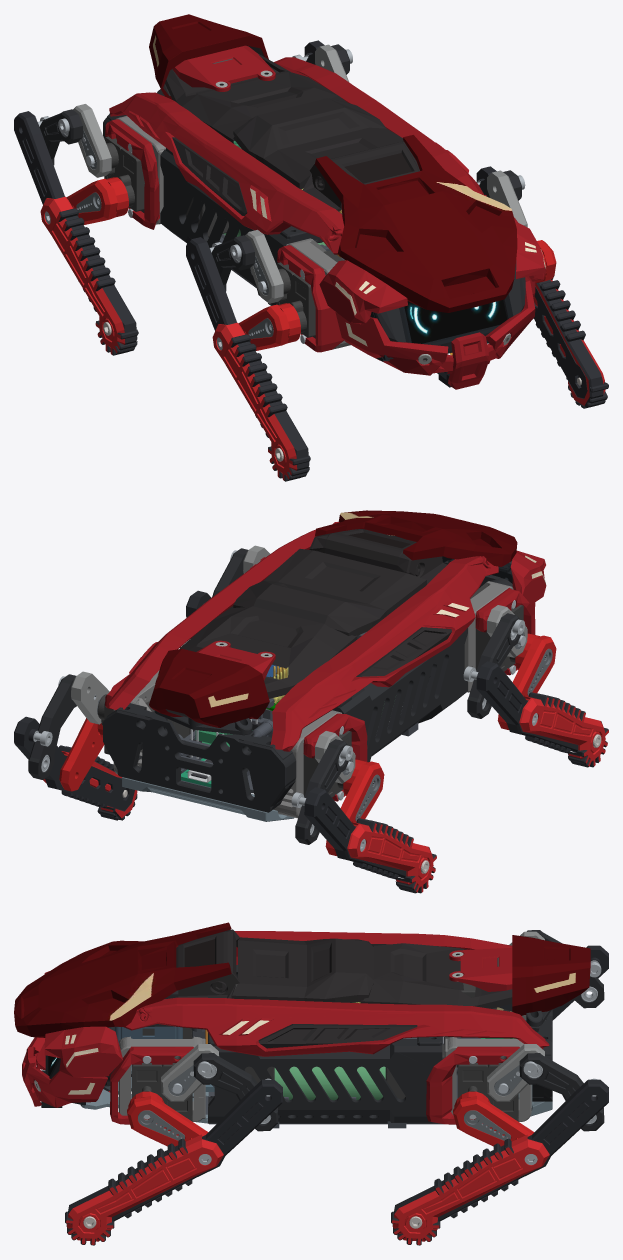
Rendered from ainekio-v2.glb.
The picture shows the model from 3 angles, top to bottom: view 1: azimuth 30°, elevation 25°; view 2: azimuth 150°, elevation 25°; view 3: azimuth 270°, elevation 25°; orthographic projection. The views are drawn at different scales.
Parts seen in each view (by area): view 1: Ext_RobotRoot, Ext_Tex_RobotRoot_01, Int_FR_Foot, Int_RR_Foot, Int_RobotRoot, Int_RL_Foot, Int_Tex_RobotRoot_00, Int_RR_Shoulder, Int_FR_Shoulder, Ext_RR_Shoulder, Ext_FR_Shoulder, Int_RR_Primary (+7 smaller); view 2: Ext_RobotRoot, Int_RobotRoot, Ext_Tex_RobotRoot_01, Int_RR_Foot, Int_FR_Foot, Int_FL_Foot, Int_FL_Rod, Int_FR_Primary, Int_RR_Primary, Int_FR_Shoulder, Int_RR_Shoulder, Int_FL_Primary (+9 smaller); view 3: Ext_RobotRoot, Ext_Tex_RobotRoot_01, Int_RobotRoot, Int_RL_Foot, Int_FL_Foot, Int_RL_Shoulder, Int_FL_Shoulder, Ext_FL_Shoulder, Int_FL_Primary, Int_RL_Primary, Int_FL_Rod, Int_RL_Rod (+5 smaller).
Boxes of the visible parts, x1,y1,x2,y2 form: Ext_RobotRoot: (109, 45, 546, 389); Ext_Tex_RobotRoot_01: (149, 14, 517, 312); Int_FR_Foot: (14, 111, 138, 355); Int_RR_Foot: (186, 237, 310, 481); Int_RobotRoot: (103, 113, 500, 387); Int_RL_Foot: (476, 166, 608, 408); Int_Tex_RobotRoot_00: (404, 300, 507, 343); Int_RR_Shoulder: (266, 238, 350, 349); Int_FR_Shoulder: (93, 116, 165, 224); Ext_RR_Shoulder: (277, 245, 344, 352); Ext_FR_Shoulder: (105, 119, 159, 229); Int_RR_Primary: (217, 303, 300, 350); Ext_RobotRoot: (109, 522, 546, 751); Int_RobotRoot: (103, 535, 512, 821); Ext_Tex_RobotRoot_01: (149, 510, 517, 727); Int_RR_Foot: (463, 661, 608, 767); Int_FR_Foot: (291, 787, 436, 893); Int_FL_Foot: (14, 716, 137, 820); Int_FL_Rod: (28, 674, 76, 779); Int_FR_Primary: (325, 759, 384, 855); Int_RR_Primary: (497, 633, 556, 729); Int_FR_Shoulder: (273, 710, 351, 818); Int_RR_Shoulder: (464, 581, 523, 692); Int_FL_Primary: (59, 718, 104, 791); Ext_RobotRoot: (22, 929, 551, 1107); Ext_Tex_RobotRoot_01: (14, 922, 590, 1037); Int_RobotRoot: (41, 965, 552, 1128); Int_RL_Foot: (65, 1078, 282, 1245); Int_FL_Foot: (391, 1078, 608, 1245); Int_RL_Shoulder: (118, 1036, 205, 1121); Int_FL_Shoulder: (444, 1037, 531, 1121); Ext_FL_Shoulder: (426, 1046, 519, 1124); Int_FL_Primary: (453, 1091, 537, 1164); Int_RL_Primary: (127, 1091, 211, 1164); Int_FL_Rod: (519, 1053, 604, 1131); Int_RL_Rod: (193, 1053, 278, 1131).
Size of the model in its own units: 0.1432 by 0.103 by 0.2435.
100 materials, 3 textured.
